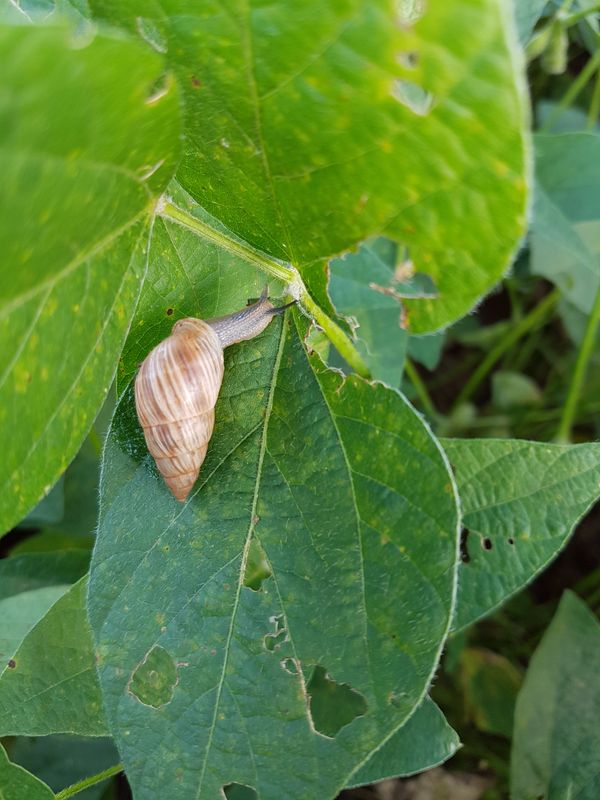Gastropoda: (115, 266, 320, 519)
